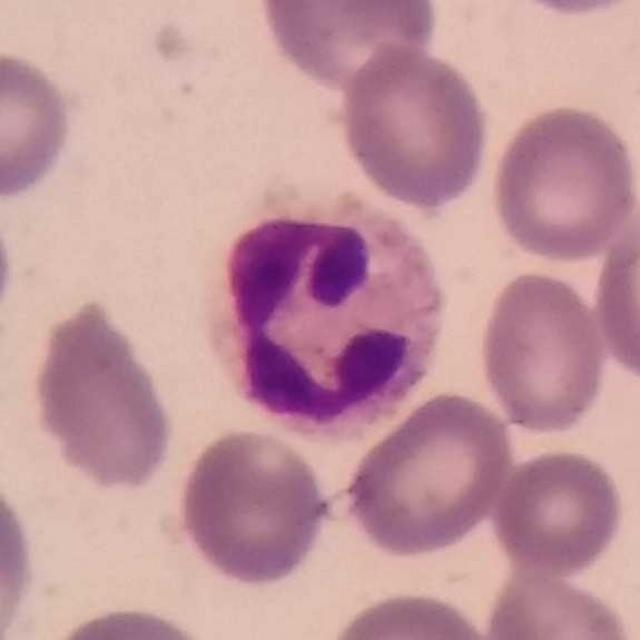Neutrophil: (204, 195, 455, 437)
RBC: (24, 293, 180, 494), (338, 387, 516, 561), (172, 423, 338, 590), (333, 40, 493, 213), (484, 100, 640, 266), (473, 266, 611, 439), (486, 444, 630, 579), (252, 0, 443, 93), (0, 44, 78, 205), (481, 567, 639, 640), (321, 585, 502, 640), (589, 196, 640, 388), (37, 601, 225, 640), (0, 466, 42, 638), (494, 0, 640, 20), (0, 192, 18, 340)
